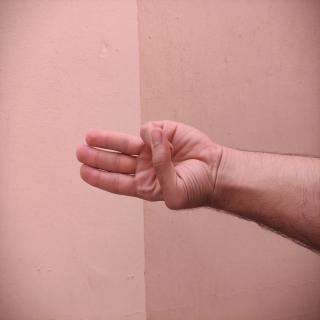THA: (80, 95, 154, 299)
